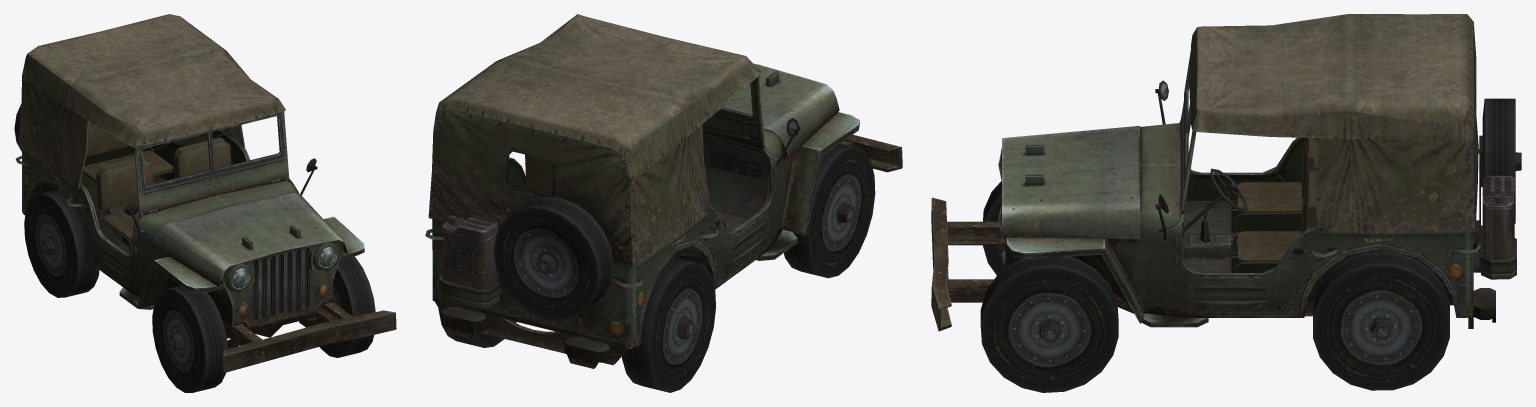
The model's file is vehicle_jeep_skin_default.glb.
3 renders of one model, left to right at view 1: azimuth 30°, elevation 25°; view 2: azimuth 150°, elevation 25°; view 3: azimuth 270°, elevation 25°, orthographic. The views are drawn at different scales.
Visible parts, largest first — view 1: Object_2; view 2: Object_2; view 3: Object_2.
Boxes of the visible parts, x1=… form: Object_2: x1=14, y1=14, x2=396, y2=392; Object_2: x1=425, y1=14, x2=902, y2=392; Object_2: x1=931, y1=14, x2=1521, y2=392.
Size of the model in its own units: 0.0169 by 0.0185 by 0.0347.
1 material, 1 textured.
